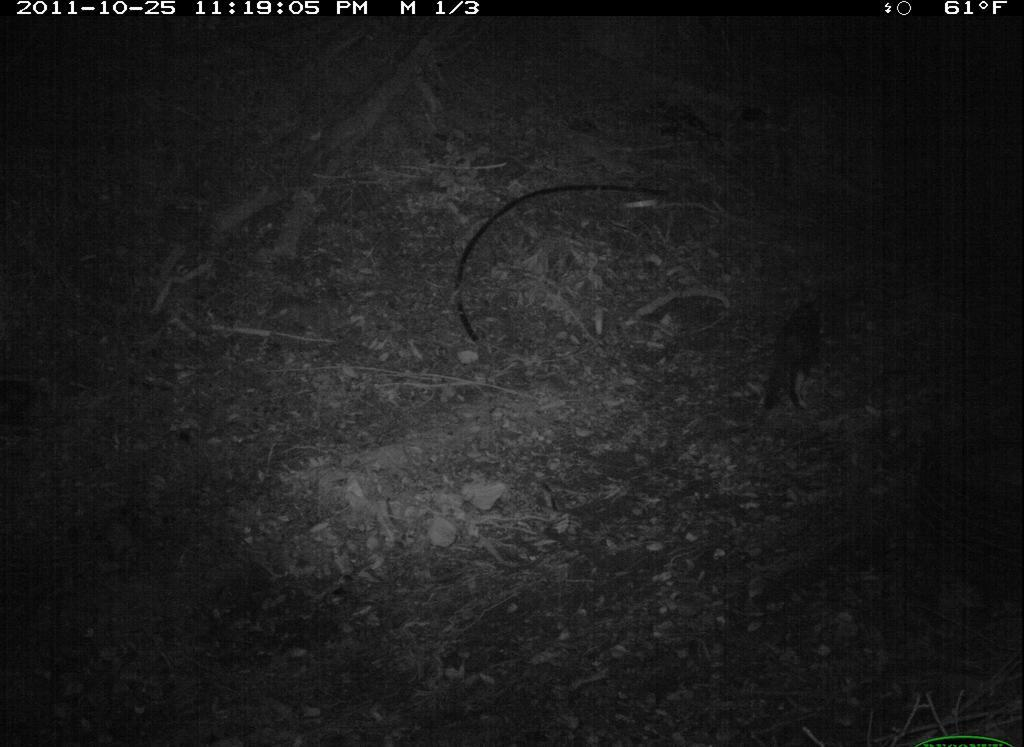cat: (753, 280, 844, 423)
